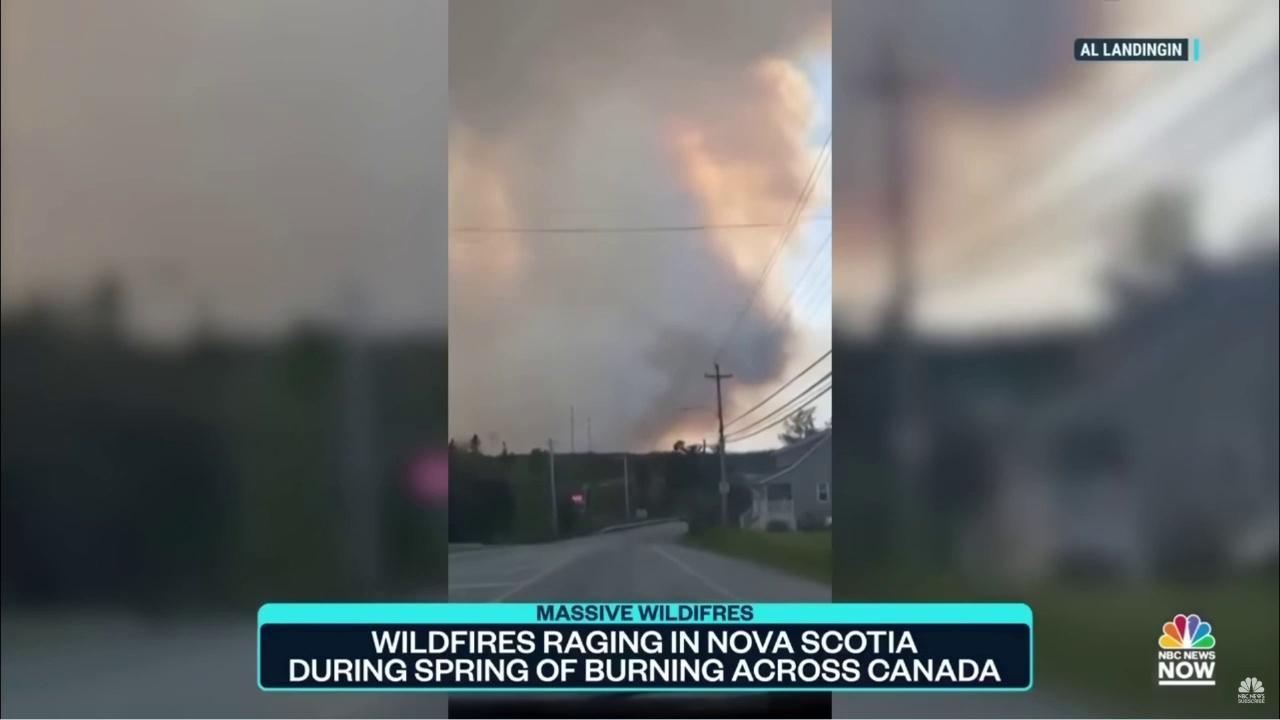smoke: (448, 0, 834, 457)
